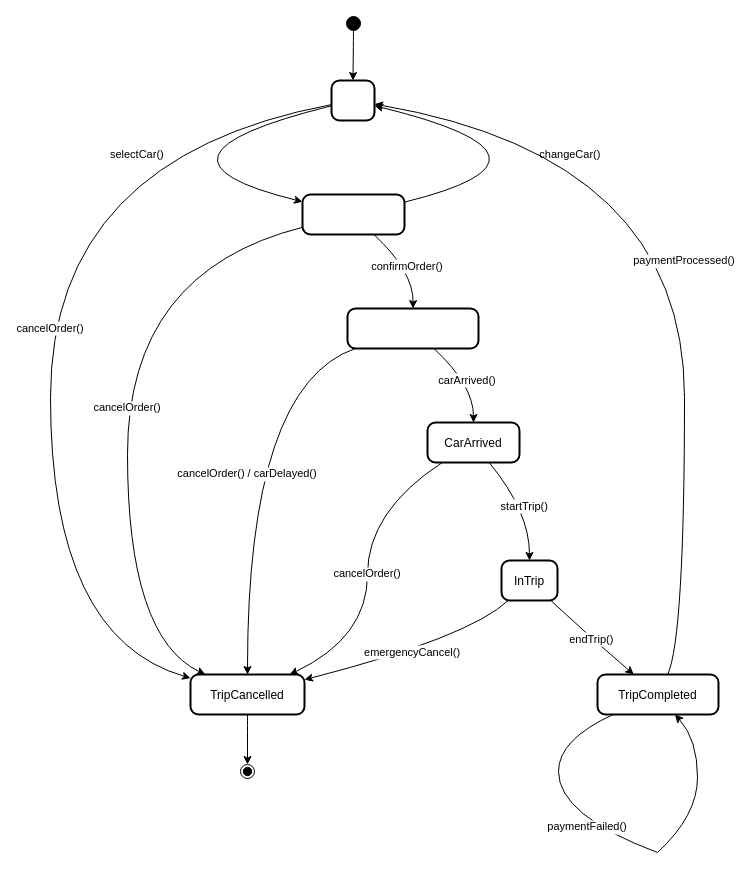
This 753x869 diagram has some shape labels left out. The shapes that lost their labels are listed below. From the top down, each one's centre as x and y in pixels, then its label:
At (x=352, y=100): "Idle".
At (x=353, y=214): "CarSelected".
At (x=412, y=328): "OrderConfirmed".
